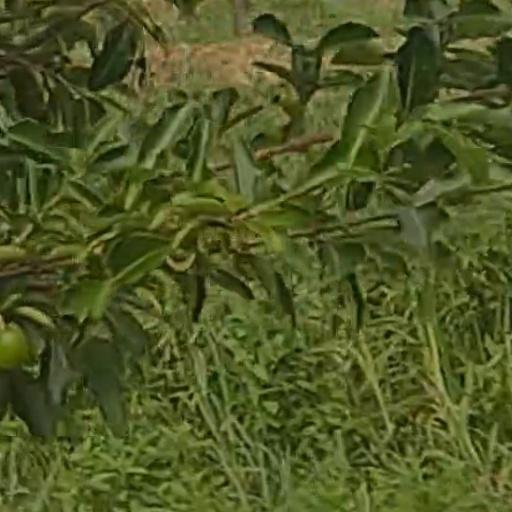acerola: (1, 330, 31, 371)
